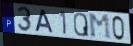0: (111, 15, 125, 41)
1: (59, 10, 67, 36)
3: (16, 6, 32, 33)
A: (34, 9, 54, 34)
M: (87, 13, 112, 41)
Q: (73, 12, 90, 38)
